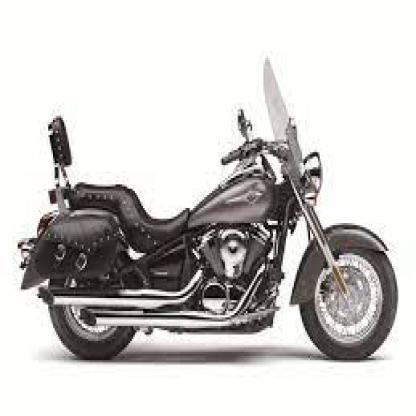Motorcycle: (16, 56, 403, 368)
